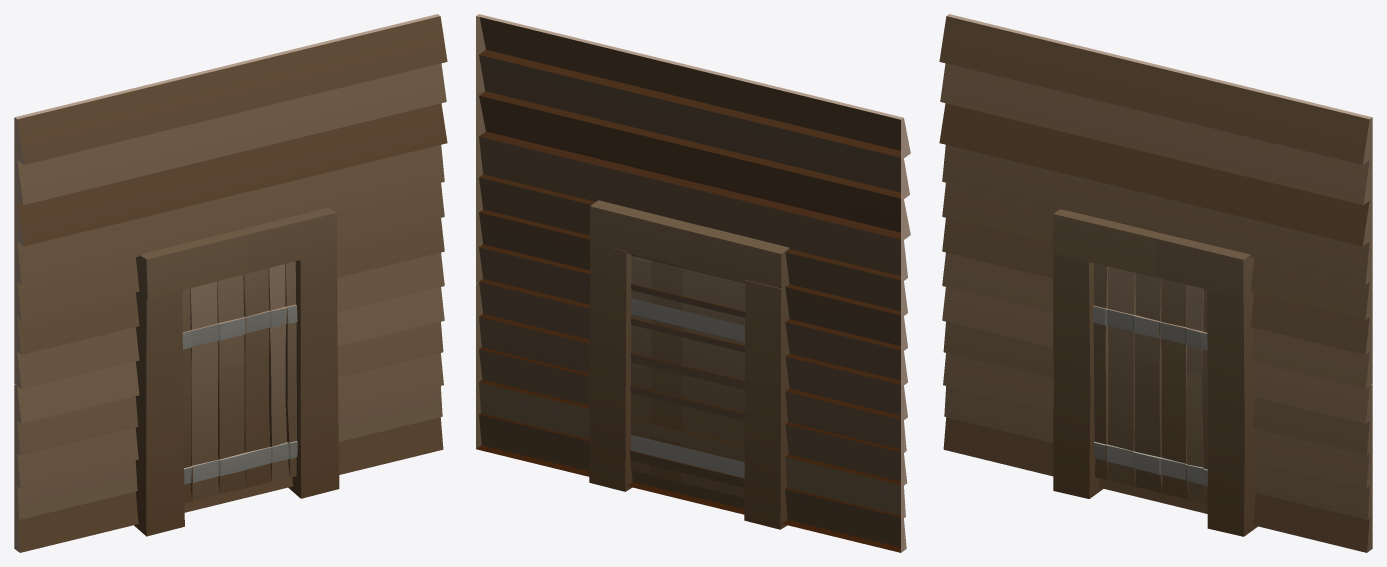
File: Wall_01.fbx
3 views of the same model, side by side, from view 1: azimuth 30°, elevation 25°; view 2: azimuth 150°, elevation 25°; view 3: azimuth 330°, elevation 25° (orthographic).
Parts seen in each view (by area): view 1: Plane.059; view 2: Plane.059; view 3: Plane.059.
Boxes of the visible parts, left/top/right/bottom form: Plane.059: left=14, top=14, right=447, bottom=552; Plane.059: left=476, top=14, right=910, bottom=552; Plane.059: left=939, top=14, right=1372, bottom=552.
Size of the model in its own units: 321 by 317 by 21.9.
